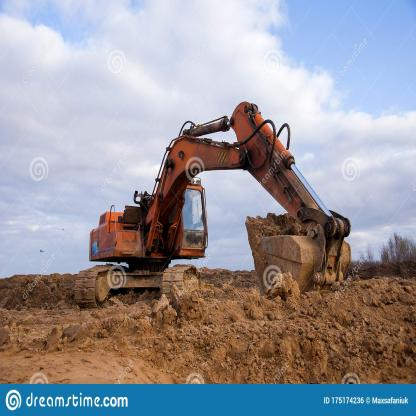excavator: (61, 100, 373, 335)
